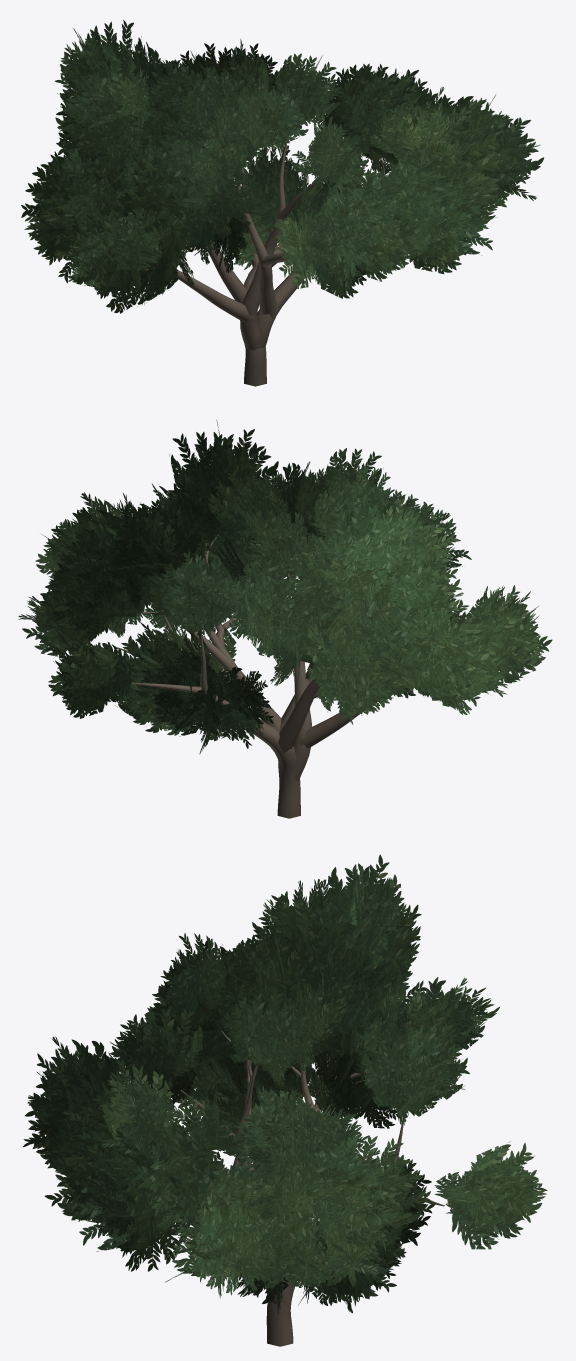
The model's file is olive_lod1.glb.
3 renders of one model, top to bottom at view 1: azimuth 30°, elevation 25°; view 2: azimuth 150°, elevation 25°; view 3: azimuth 270°, elevation 25°, orthographic. The views are drawn at different scales.
Visible parts, largest first — view 1: Tree_Foliage_Main_LOD1, Tree_Foliage_Secondary_LOD1, Tree_Trunk_LOD1; view 2: Tree_Foliage_Main_LOD1, Tree_Foliage_Secondary_LOD1, Tree_Trunk_LOD1; view 3: Tree_Foliage_Main_LOD1, Tree_Foliage_Secondary_LOD1, Tree_Trunk_LOD1.
Boxes of the visible parts, x1,y1,x2,y2 form: Tree_Foliage_Main_LOD1: (21, 20, 543, 313); Tree_Foliage_Secondary_LOD1: (116, 39, 462, 298); Tree_Trunk_LOD1: (144, 139, 371, 386); Tree_Foliage_Main_LOD1: (18, 420, 552, 732); Tree_Foliage_Secondary_LOD1: (104, 448, 458, 754); Tree_Trunk_LOD1: (117, 531, 403, 818); Tree_Foliage_Main_LOD1: (23, 854, 547, 1313); Tree_Foliage_Secondary_LOD1: (80, 928, 469, 1314); Tree_Trunk_LOD1: (180, 1054, 444, 1346).
Size of the model in its own units: 1.57 by 1.07 by 1.29.
3 materials, 2 textured.
